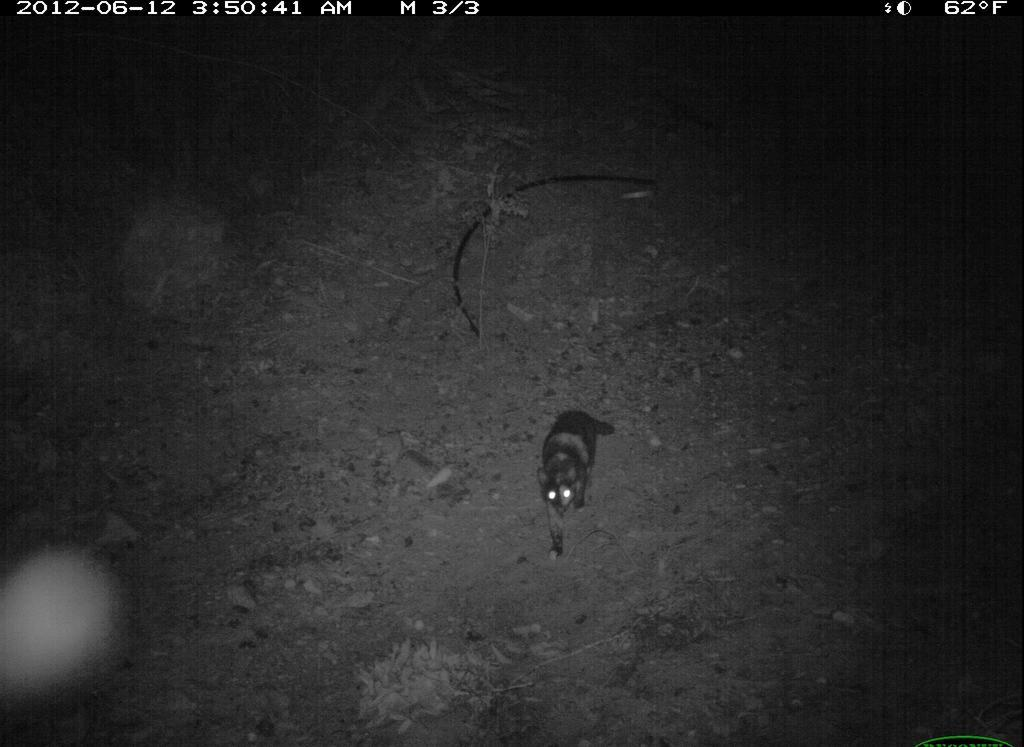cat: (520, 382, 626, 579)
